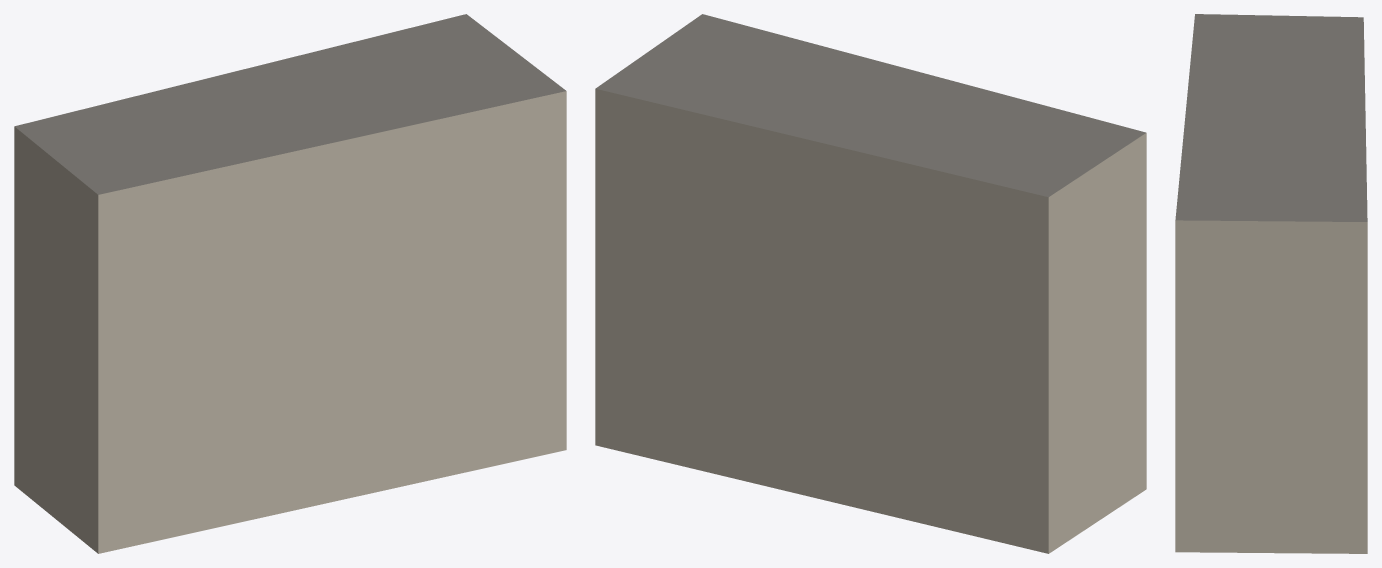
3 views of the same model, side by side, from view 1: azimuth 30°, elevation 25°; view 2: azimuth 150°, elevation 25°; view 3: azimuth 270°, elevation 25° (orthographic). The views are drawn at different scales.
Parts seen in each view (by area): view 1: HP-w729793441; view 2: HP-w729793441; view 3: HP-w729793441.
Part boxes in pixels (x1,y1,x2,y2): HP-w729793441: (14,14,566,553); HP-w729793441: (595,14,1146,553); HP-w729793441: (1175,14,1367,553).
Size of the model in its own units: 24.21 by 18 by 9.45.
